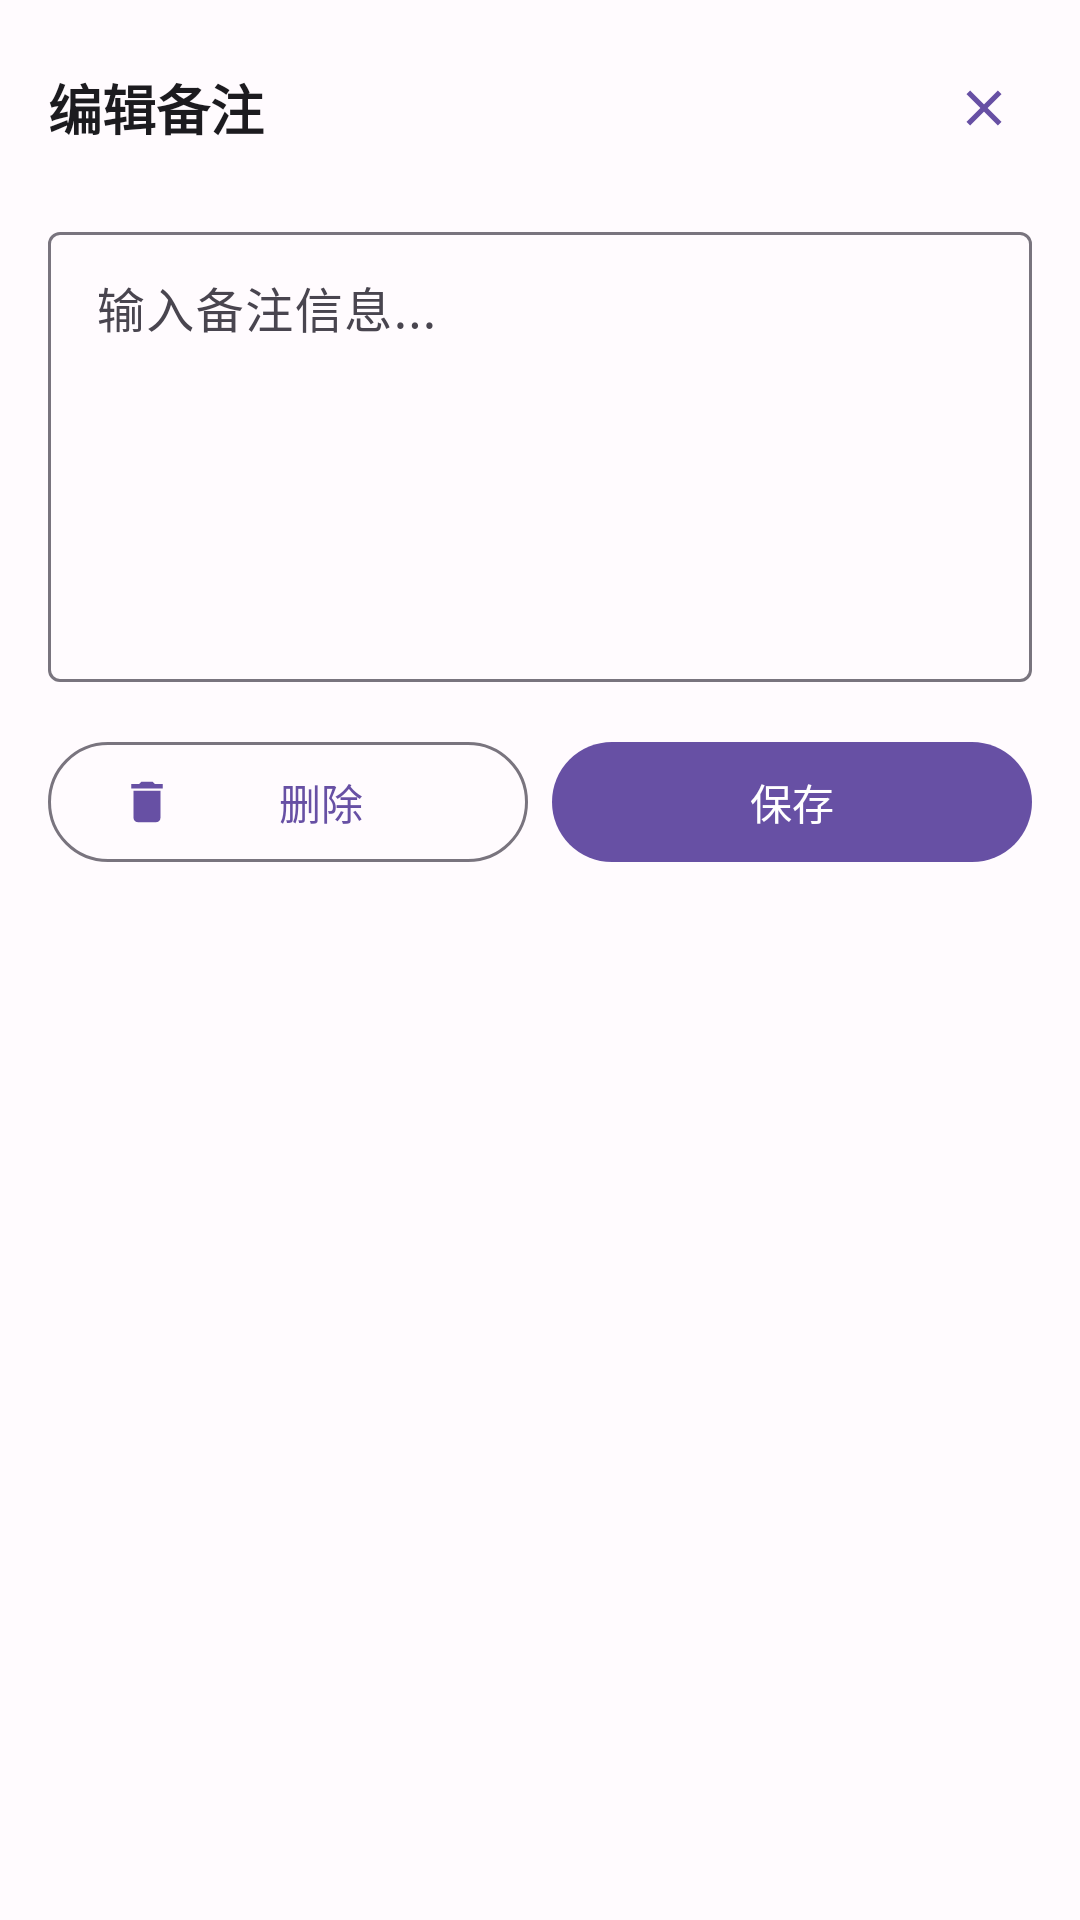

Screen size 1080w x 1920h. Icon name, then its box in pixels as [x1,y1,x2,y2]:
关闭: [966,90,1002,126]
